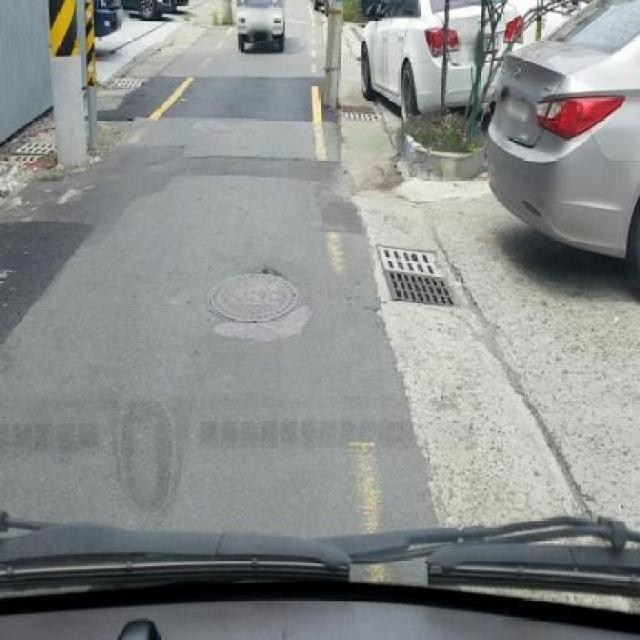Manhole: (374, 240, 464, 318), (204, 264, 304, 326), (338, 98, 382, 128), (108, 74, 144, 92), (14, 142, 52, 156), (0, 154, 38, 164)
Pothole: (254, 267, 283, 276)
